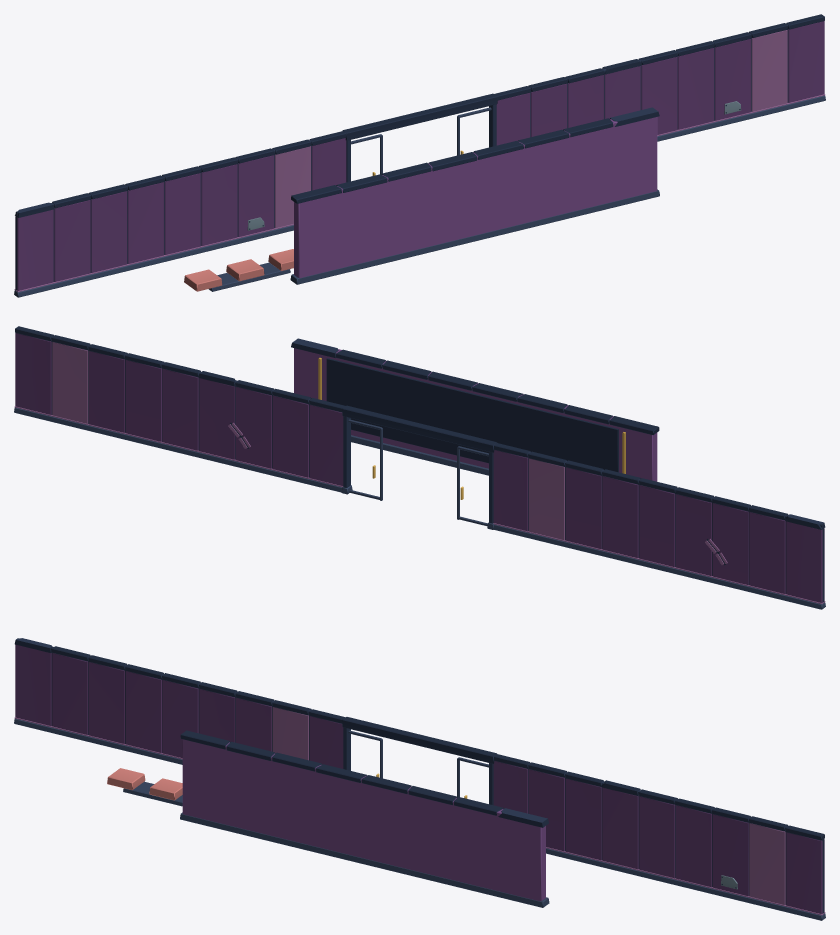
Rendered from reception.glb.
The picture shows the model from 3 angles, top to bottom: view 1: azimuth 30°, elevation 25°; view 2: azimuth 150°, elevation 25°; view 3: azimuth 330°, elevation 25°; orthographic projection.
Parts seen in each view (by area): view 1: reception; view 2: reception; view 3: reception.
Boxes of the visible parts, x1,y1,x2,y2 form: reception: (14,14,825,297); reception: (14,326,825,609); reception: (14,638,825,920).
Bounding box in the file's own units: 36.04 × 3.63 × 4.74.
